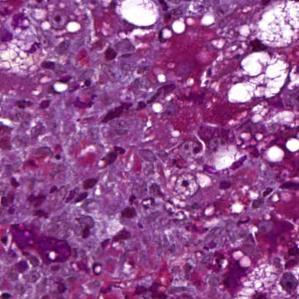ballooning: (226, 52, 289, 105), (251, 4, 294, 53), (116, 4, 160, 27)
